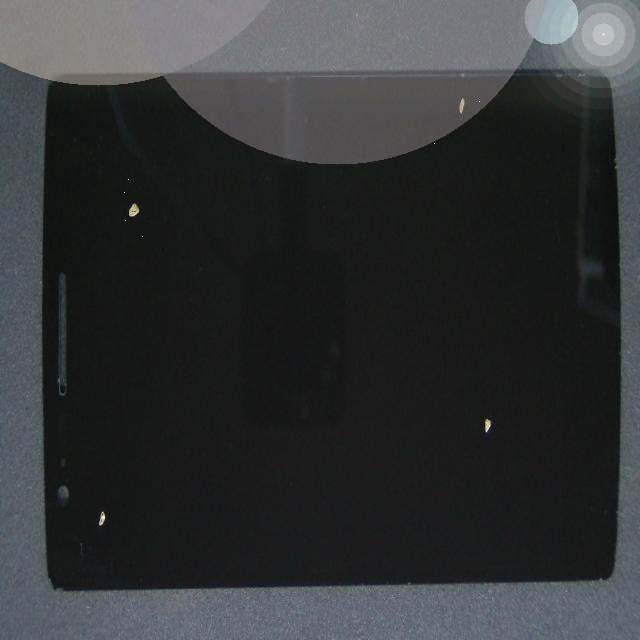stain: (243, 153, 640, 598), (202, 38, 640, 188), (29, 272, 166, 640), (87, 113, 209, 282)
